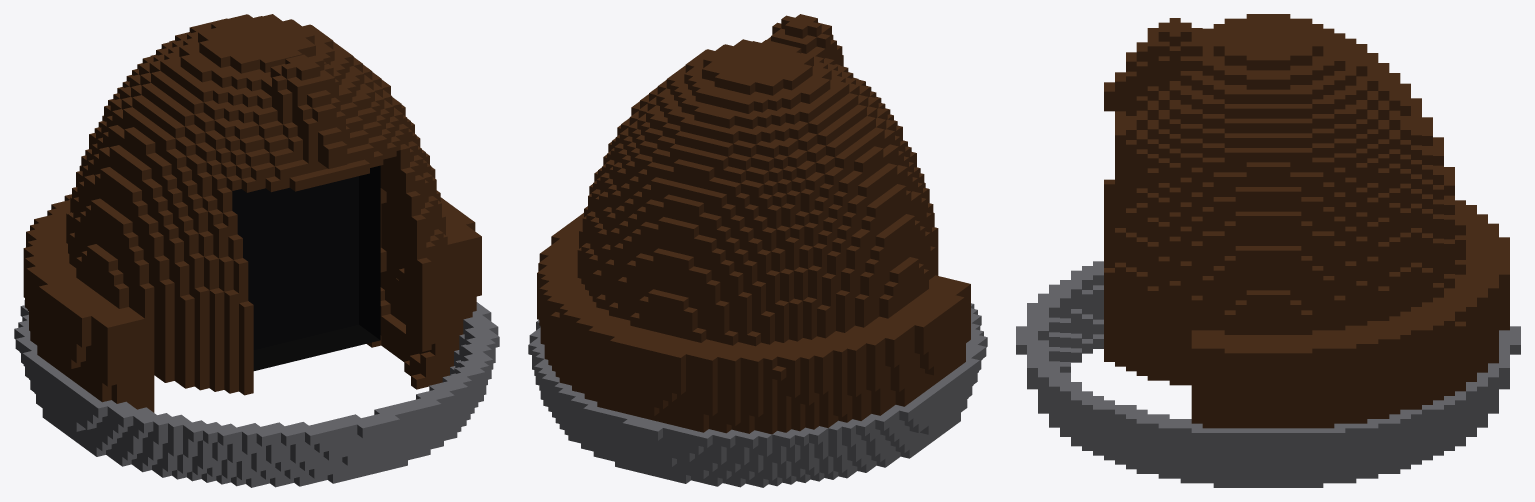
The model's file is wool_hood.glb.
3 renders of one model, left to right at view 1: azimuth 30°, elevation 25°; view 2: azimuth 150°, elevation 25°; view 3: azimuth 270°, elevation 25°, orthographic. The views are drawn at different scales.
Visible parts, largest first — view 1: wool_hood; view 2: wool_hood; view 3: wool_hood.
Part boxes in pixels (bbox=[...]): wool_hood: bbox=[14, 14, 499, 487]; wool_hood: bbox=[528, 14, 987, 487]; wool_hood: bbox=[1016, 14, 1520, 487].
Bounding box in the file's own units: 0.504 × 0.444 × 0.552.
